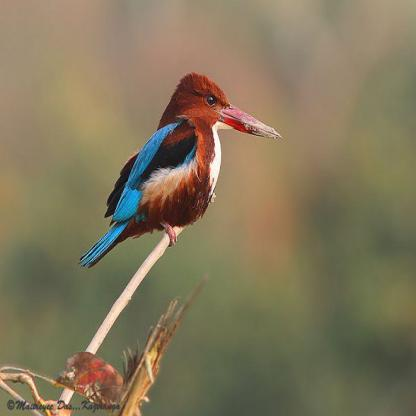Burung: (78, 72, 281, 269)
